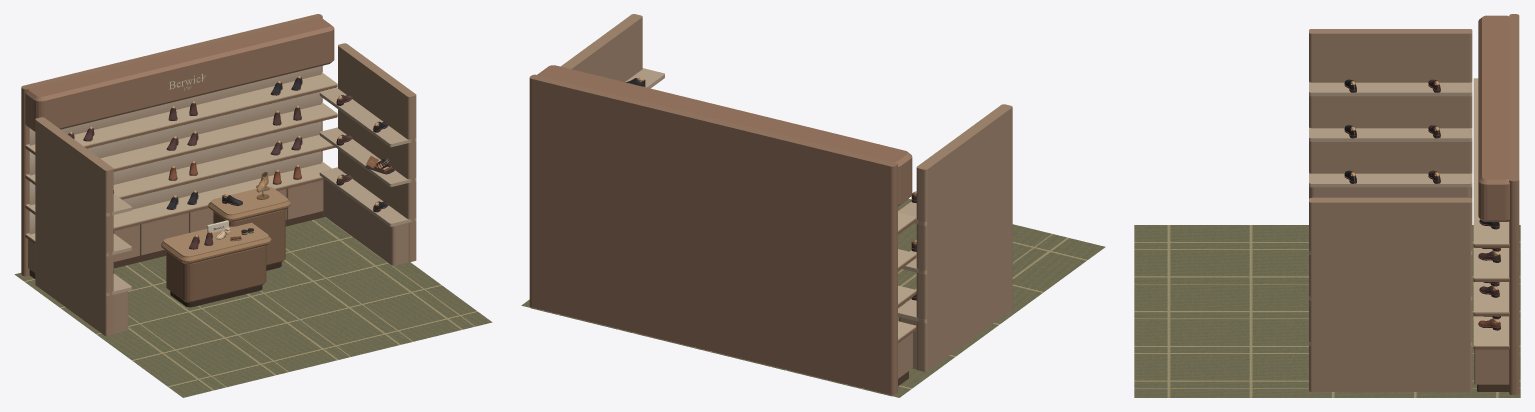
File: gallery.glb
3 renders of one model, left to right at view 1: azimuth 30°, elevation 25°; view 2: azimuth 150°, elevation 25°; view 3: azimuth 270°, elevation 25°, orthographic. The views are drawn at different scales.
Parts seen in each view (by area): view 1: BerwickCabinetry, BerwickWool, BerwickGoodyearCalf, BerwickFittings; view 2: BerwickCabinetry, BerwickWool; view 3: BerwickCabinetry, BerwickWool, BerwickGoodyearCalf, BerwickFittings.
Part boxes in pixels (x1=…): BerwickCabinetry: x1=21, y1=14, x2=416, y2=335; BerwickWool: x1=14, y1=217, x2=492, y2=397; BerwickGoodyearCalf: x1=68, y1=77, x2=394, y2=270; BerwickFittings: x1=69, y1=76, x2=388, y2=273; BerwickCabinetry: x1=529, y1=14, x2=1012, y2=396; BerwickWool: x1=521, y1=198, x2=1105, y2=397; BerwickCabinetry: x1=1309, y1=14, x2=1519, y2=394; BerwickWool: x1=1134, y1=225, x2=1520, y2=397; BerwickGoodyearCalf: x1=1345, y1=79, x2=1500, y2=327; BerwickFittings: x1=1344, y1=80, x2=1500, y2=330.
Size of the model in its own units: 4.91 by 2.84 by 4.61.
4 materials, 2 textured.
